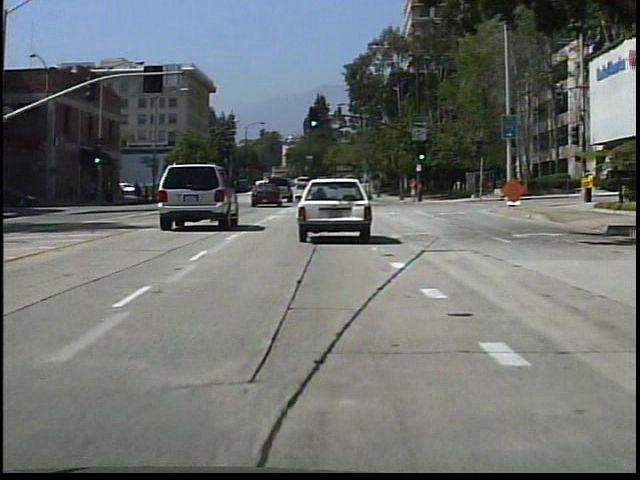person: (407, 174, 423, 208)
